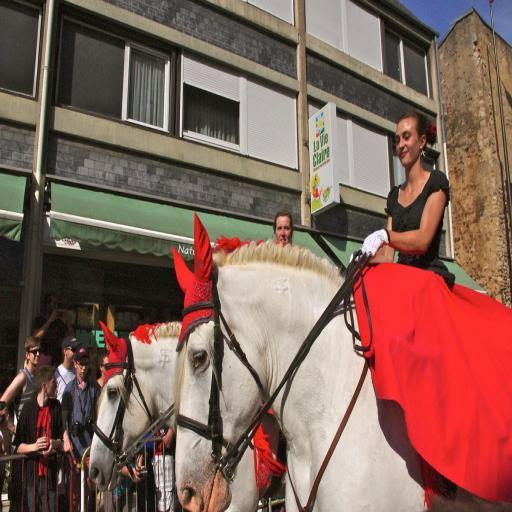horse: (174, 208, 511, 512), (88, 316, 184, 494)
